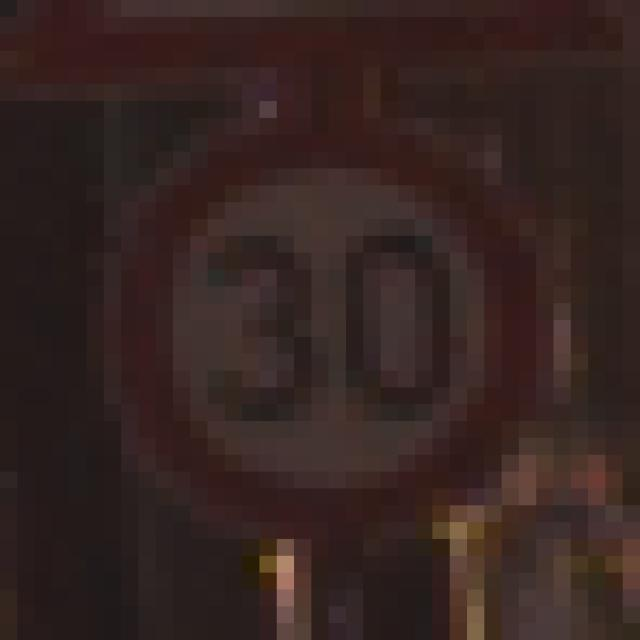Speed Limit -30-: (78, 92, 527, 530)
